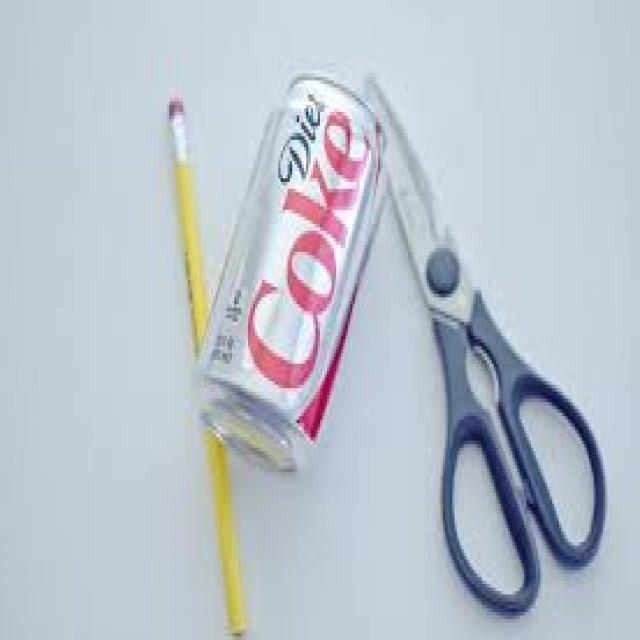metal-can: (190, 71, 388, 479)
